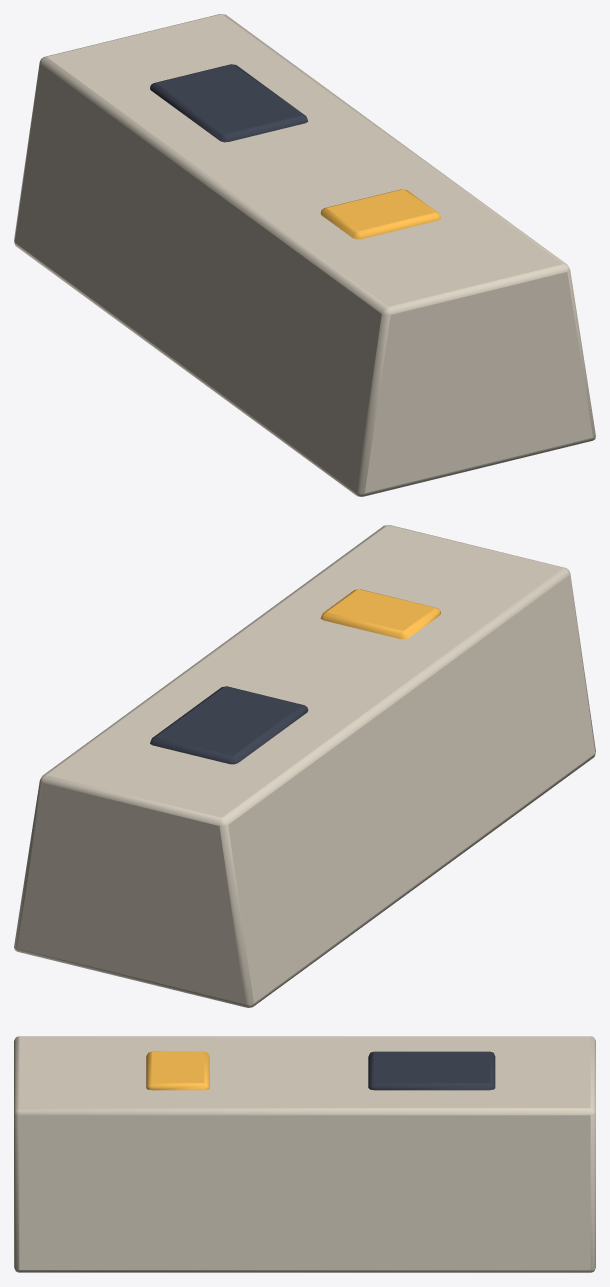
File: ware_titanleg.fbx
3 renders of one model, top to bottom at view 1: azimuth 30°, elevation 25°; view 2: azimuth 150°, elevation 25°; view 3: azimuth 270°, elevation 25°, orthographic. The views are drawn at different scales.
Parts seen in each view (by area): view 1: ware_titanleg_Koerper; view 2: ware_titanleg_Koerper; view 3: ware_titanleg_Koerper.
Part boxes in pixels (x1,y1,x2,y2): ware_titanleg_Koerper: (14, 14, 595, 496); ware_titanleg_Koerper: (14, 525, 595, 1007); ware_titanleg_Koerper: (14, 1036, 595, 1272).
Bounding box in the file's own units: 0.2185 × 0.165 × 0.55.
